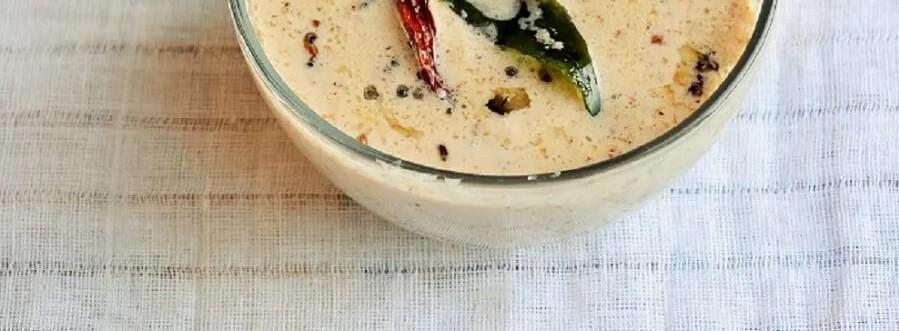CoconutChutney: (239, 0, 757, 172)
